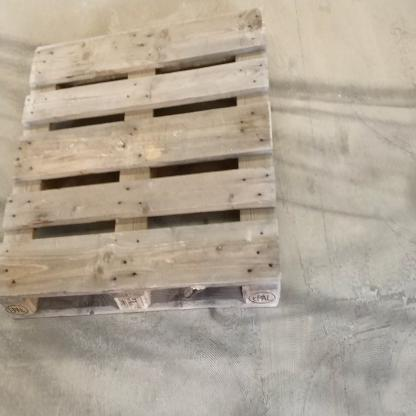BoxFace: (0, 4, 285, 325)
